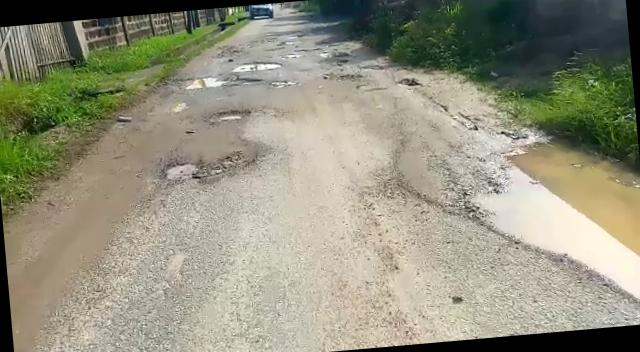pothole: (462, 131, 640, 321), (162, 155, 246, 183), (167, 73, 230, 91), (233, 59, 284, 73), (208, 108, 248, 122)
